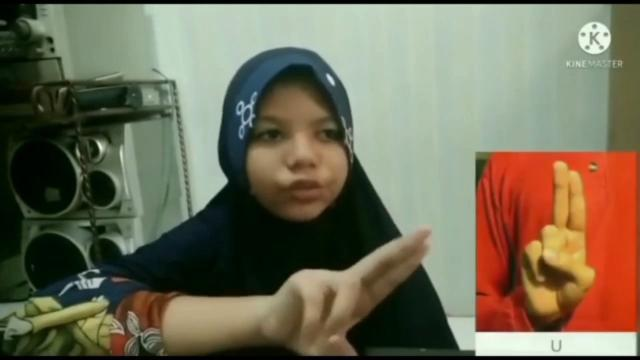U: (266, 221, 439, 360), (518, 159, 600, 326)
